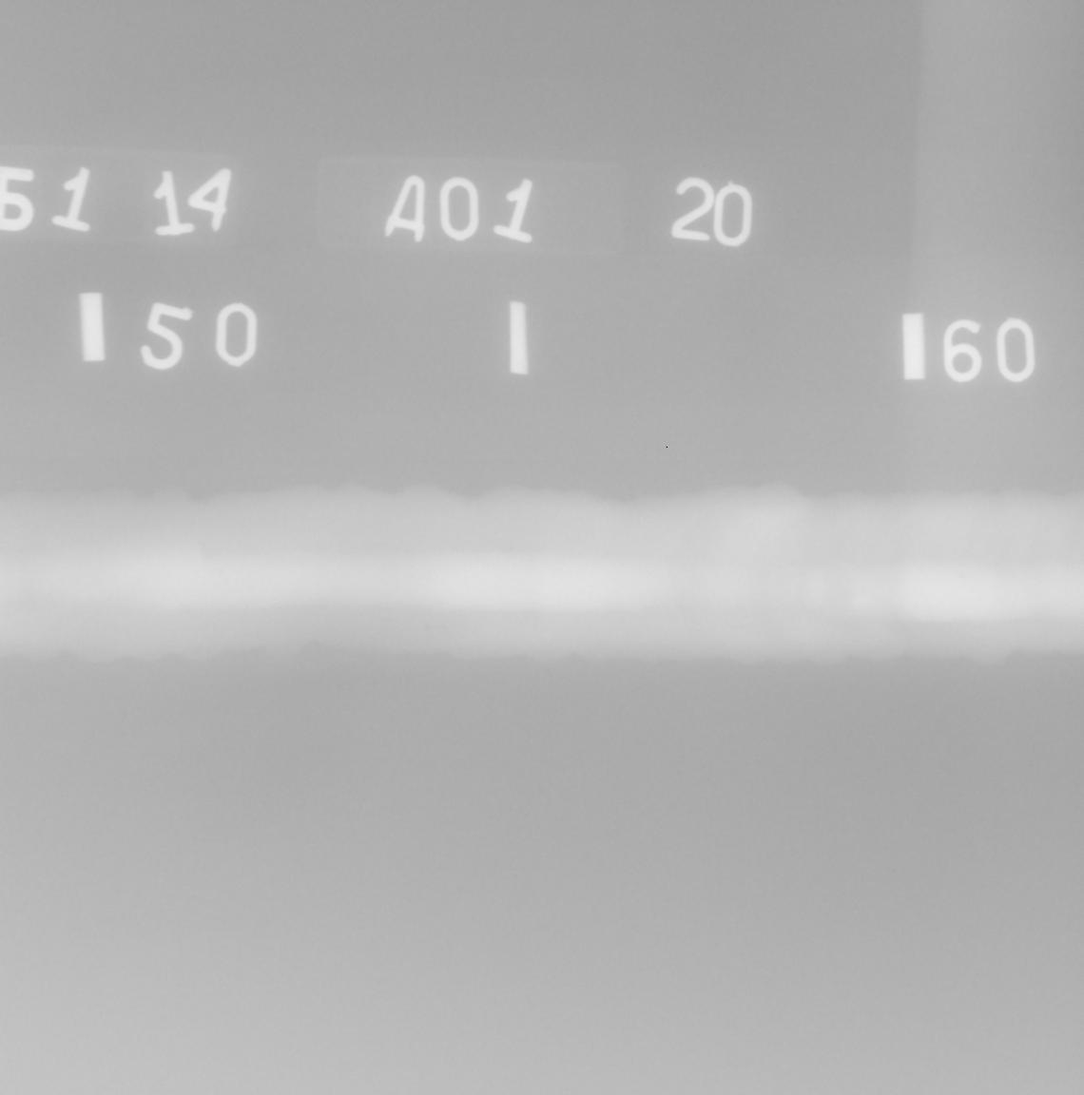Inclusion: (369, 540, 387, 549), (423, 624, 432, 631), (992, 560, 1000, 567), (437, 624, 448, 629), (403, 548, 410, 553), (392, 546, 398, 550)
Pore/Porosity: (958, 573, 967, 579)
